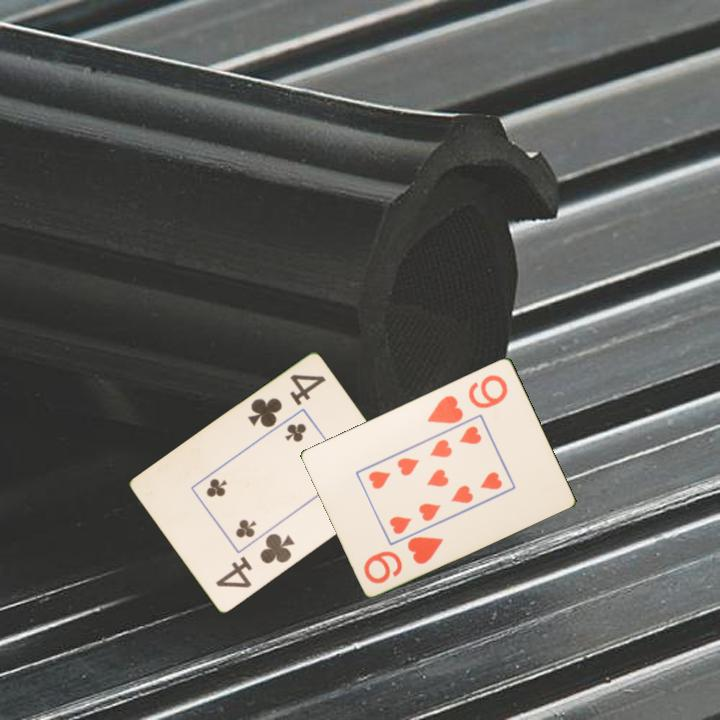4c: (212, 530, 298, 592), (243, 371, 329, 431)
9h: (424, 371, 511, 426), (360, 532, 446, 586)
